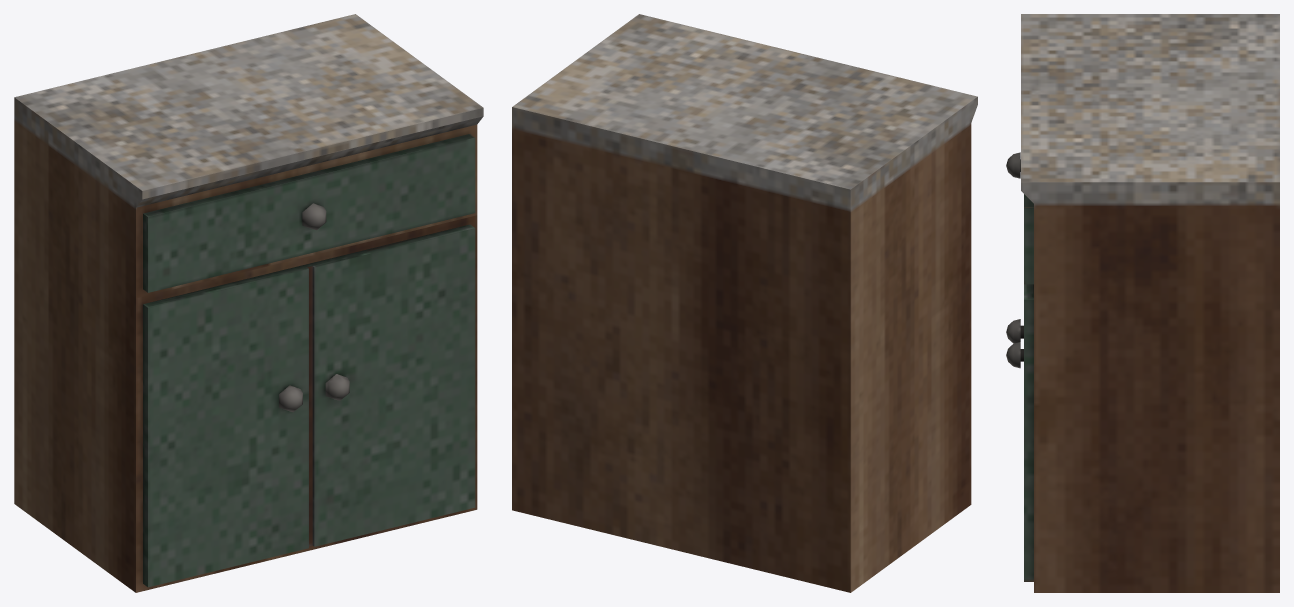
The model's file is table_kitchen.fbx.
3 renders of one model, left to right at view 1: azimuth 30°, elevation 25°; view 2: azimuth 150°, elevation 25°; view 3: azimuth 270°, elevation 25°, orthographic.
Parts seen in each view (by area): view 1: table_kitchen; view 2: table_kitchen; view 3: table_kitchen.
Boxes of the visible parts, x1=… form: table_kitchen: x1=14, y1=14, x2=483, y2=592; table_kitchen: x1=512, y1=14, x2=977, y2=592; table_kitchen: x1=1006, y1=14, x2=1279, y2=592.
Size of the model in its own units: 87.86 by 100 by 60.41.
1 material, 1 textured.
